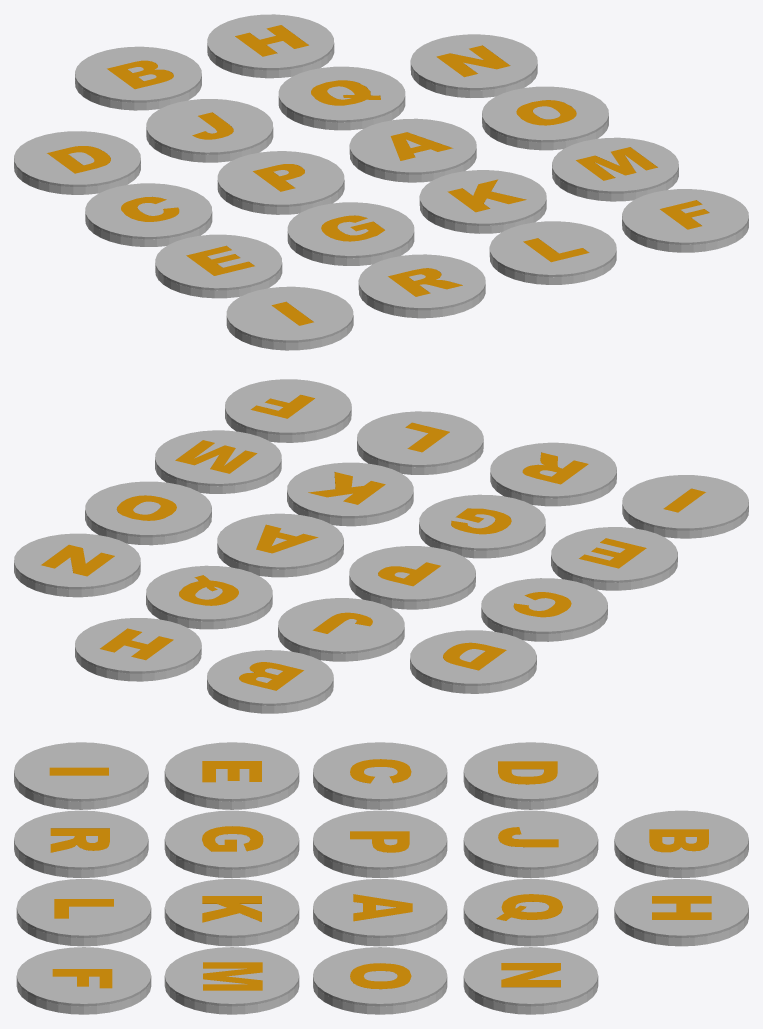
File: number_tokens.glb
3 views of the same model, one above another, from view 1: azimuth 30°, elevation 25°; view 2: azimuth 150°, elevation 25°; view 3: azimuth 270°, elevation 25° (orthographic). The views are drawn at different scales.
Parts seen in each view (by area): view 1: number_tokens; view 2: number_tokens; view 3: number_tokens.
Part boxes in pixels (left/top/right/bottom): number_tokens: left=14, top=14, right=748, bottom=350; number_tokens: left=14, top=379, right=748, bottom=713; number_tokens: left=14, top=742, right=748, bottom=1014.
Bounding box in the file's own units: 115 × 2.2 × 136.
